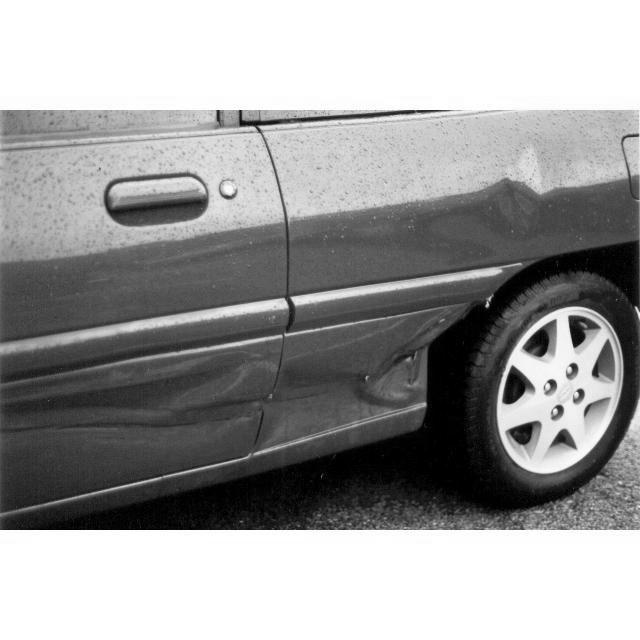quaterpanel-dent: (268, 126, 550, 434)
